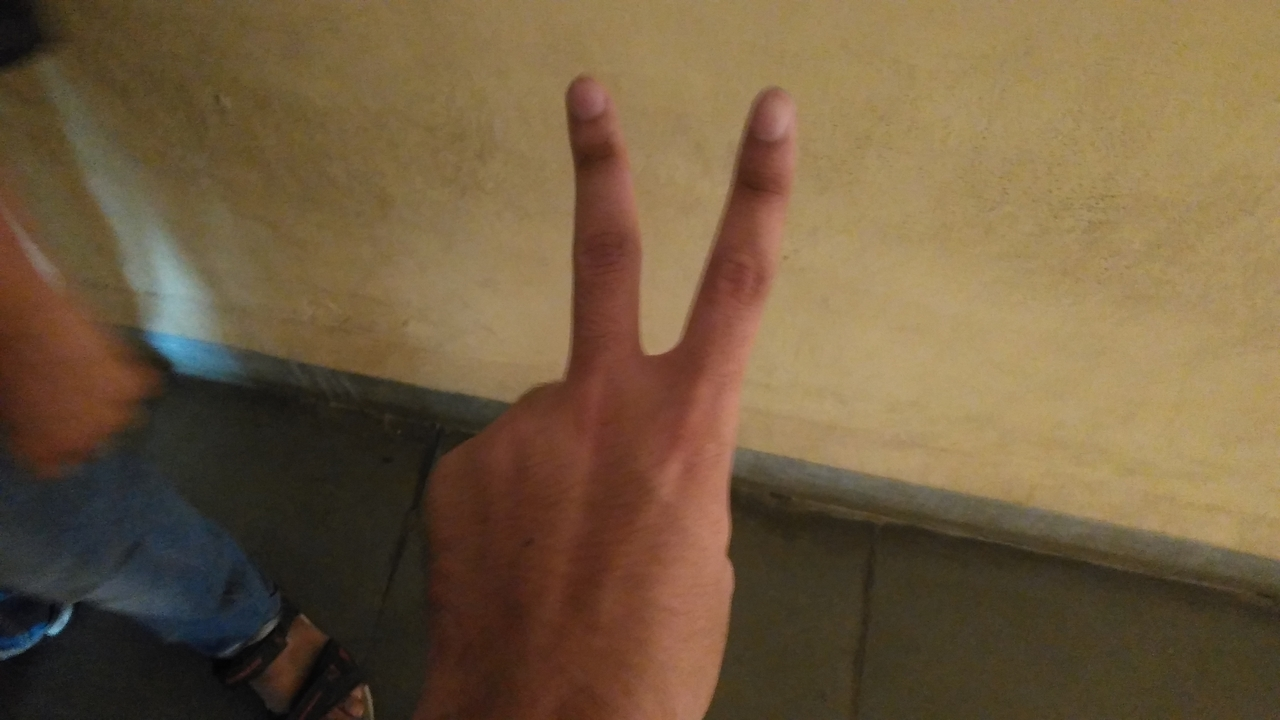fingertip: (564, 72, 622, 128), (744, 86, 802, 140)
